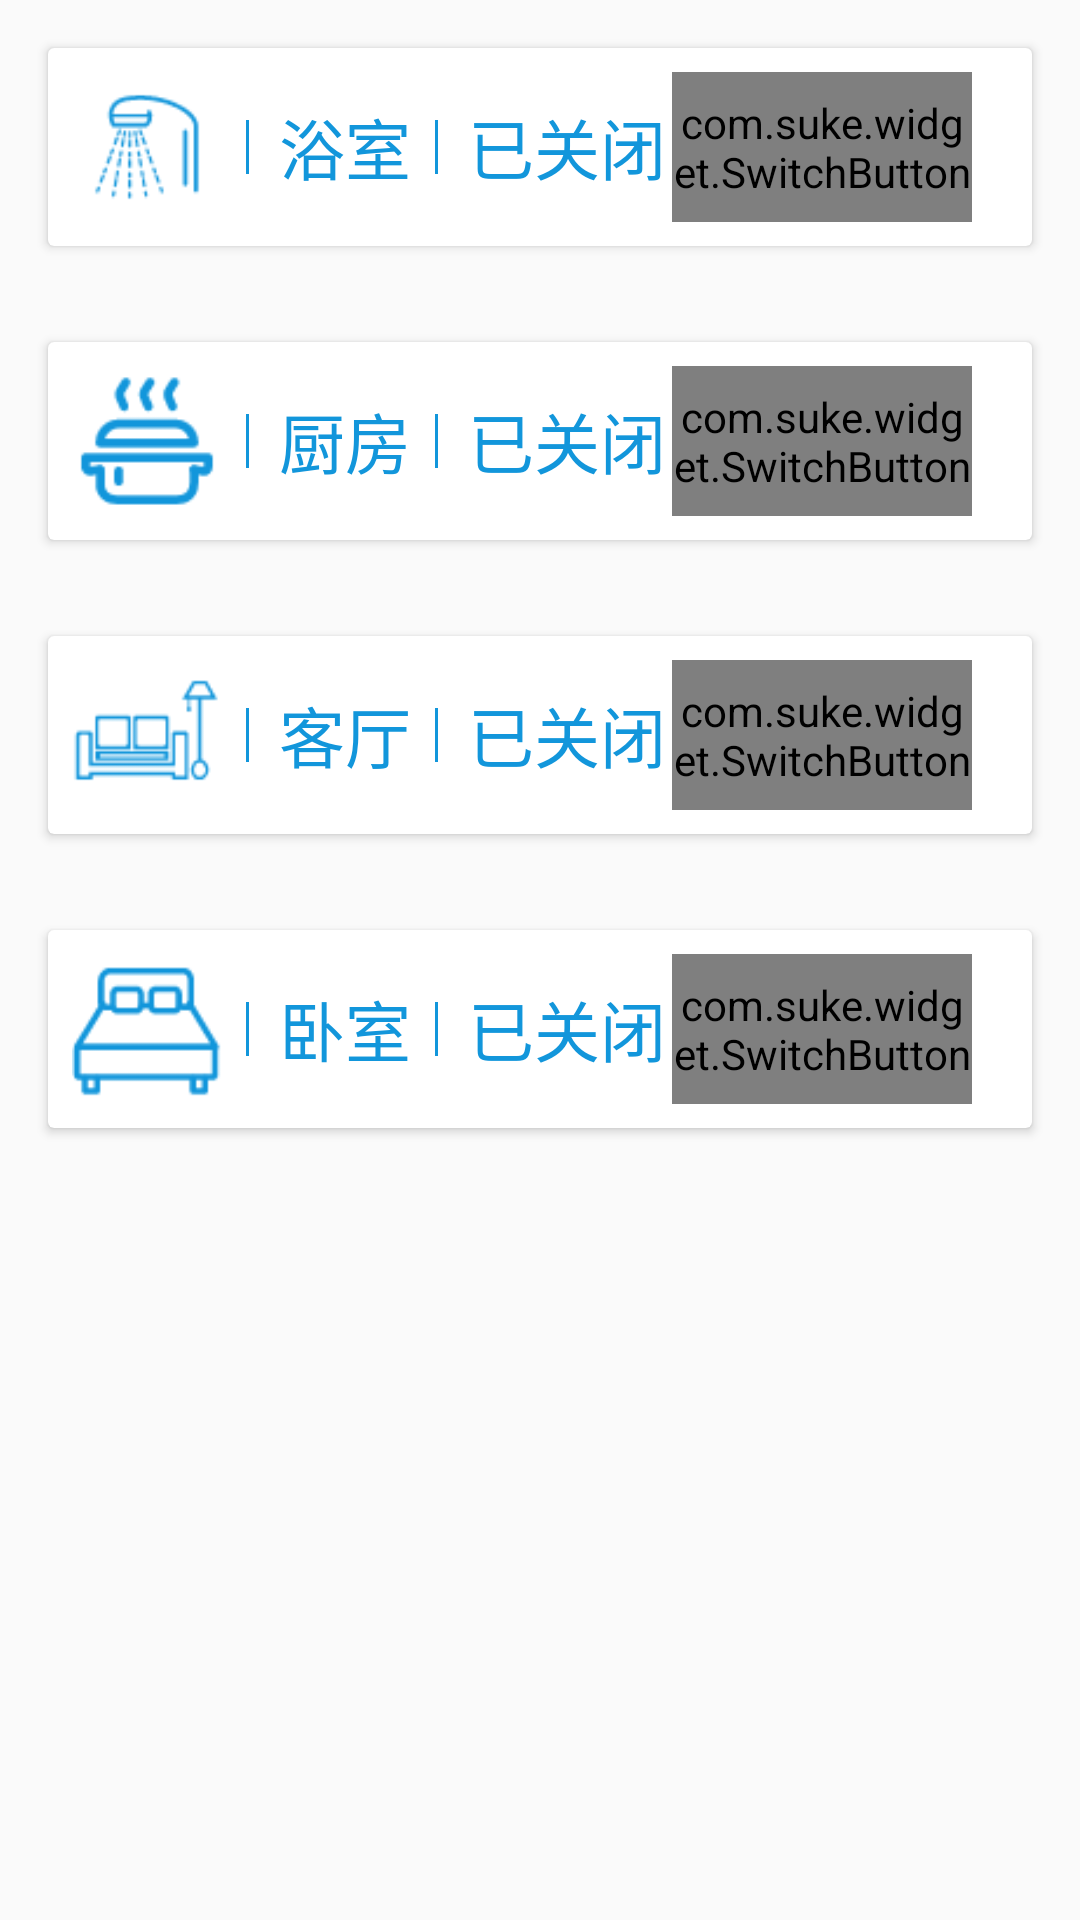

Named icons in this screenshot (1080 x 1920) and their bounding boxes, [left=x1, top=y1, right=x2, bottom=y2]:
bash room: [left=95, top=95, right=199, bottom=199]
bed room: [left=72, top=967, right=220, bottom=1095]
living room: [left=74, top=680, right=218, bottom=780]
